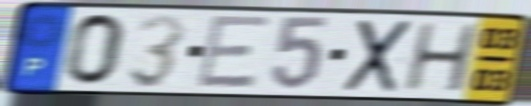0: (60, 12, 134, 88)
3: (126, 12, 193, 90)
5: (268, 14, 331, 95)
E: (194, 12, 274, 92)
H: (400, 22, 480, 95)
X: (339, 17, 416, 95)
